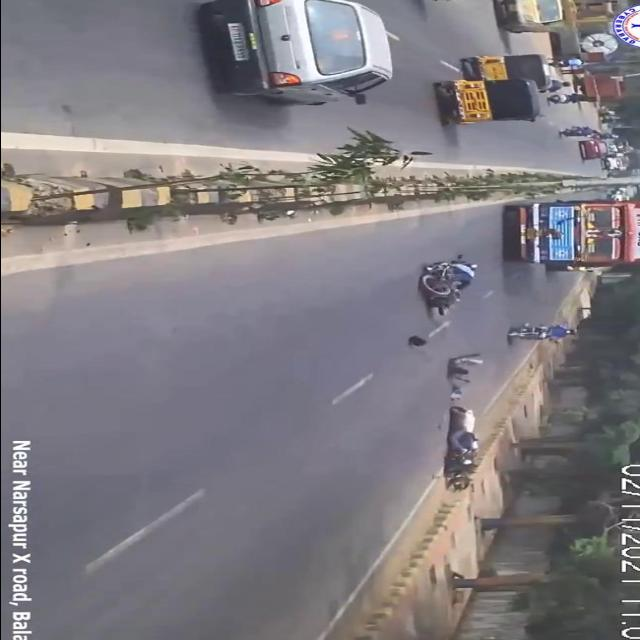accident: (432, 348, 493, 494), (404, 250, 504, 320)
non_accident: (397, 35, 576, 129), (500, 193, 640, 277), (577, 145, 640, 178)
